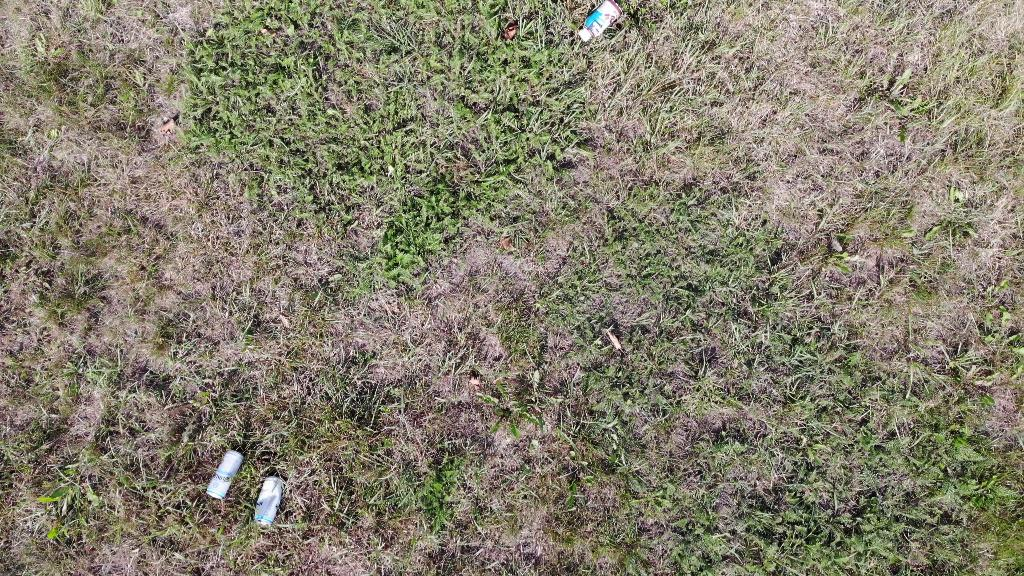garbage: (206, 447, 244, 503), (253, 475, 286, 529)
